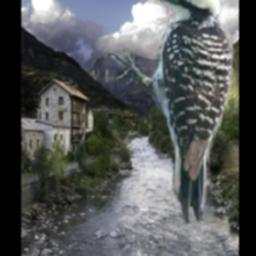Woodpecker: (102, 0, 238, 224)
